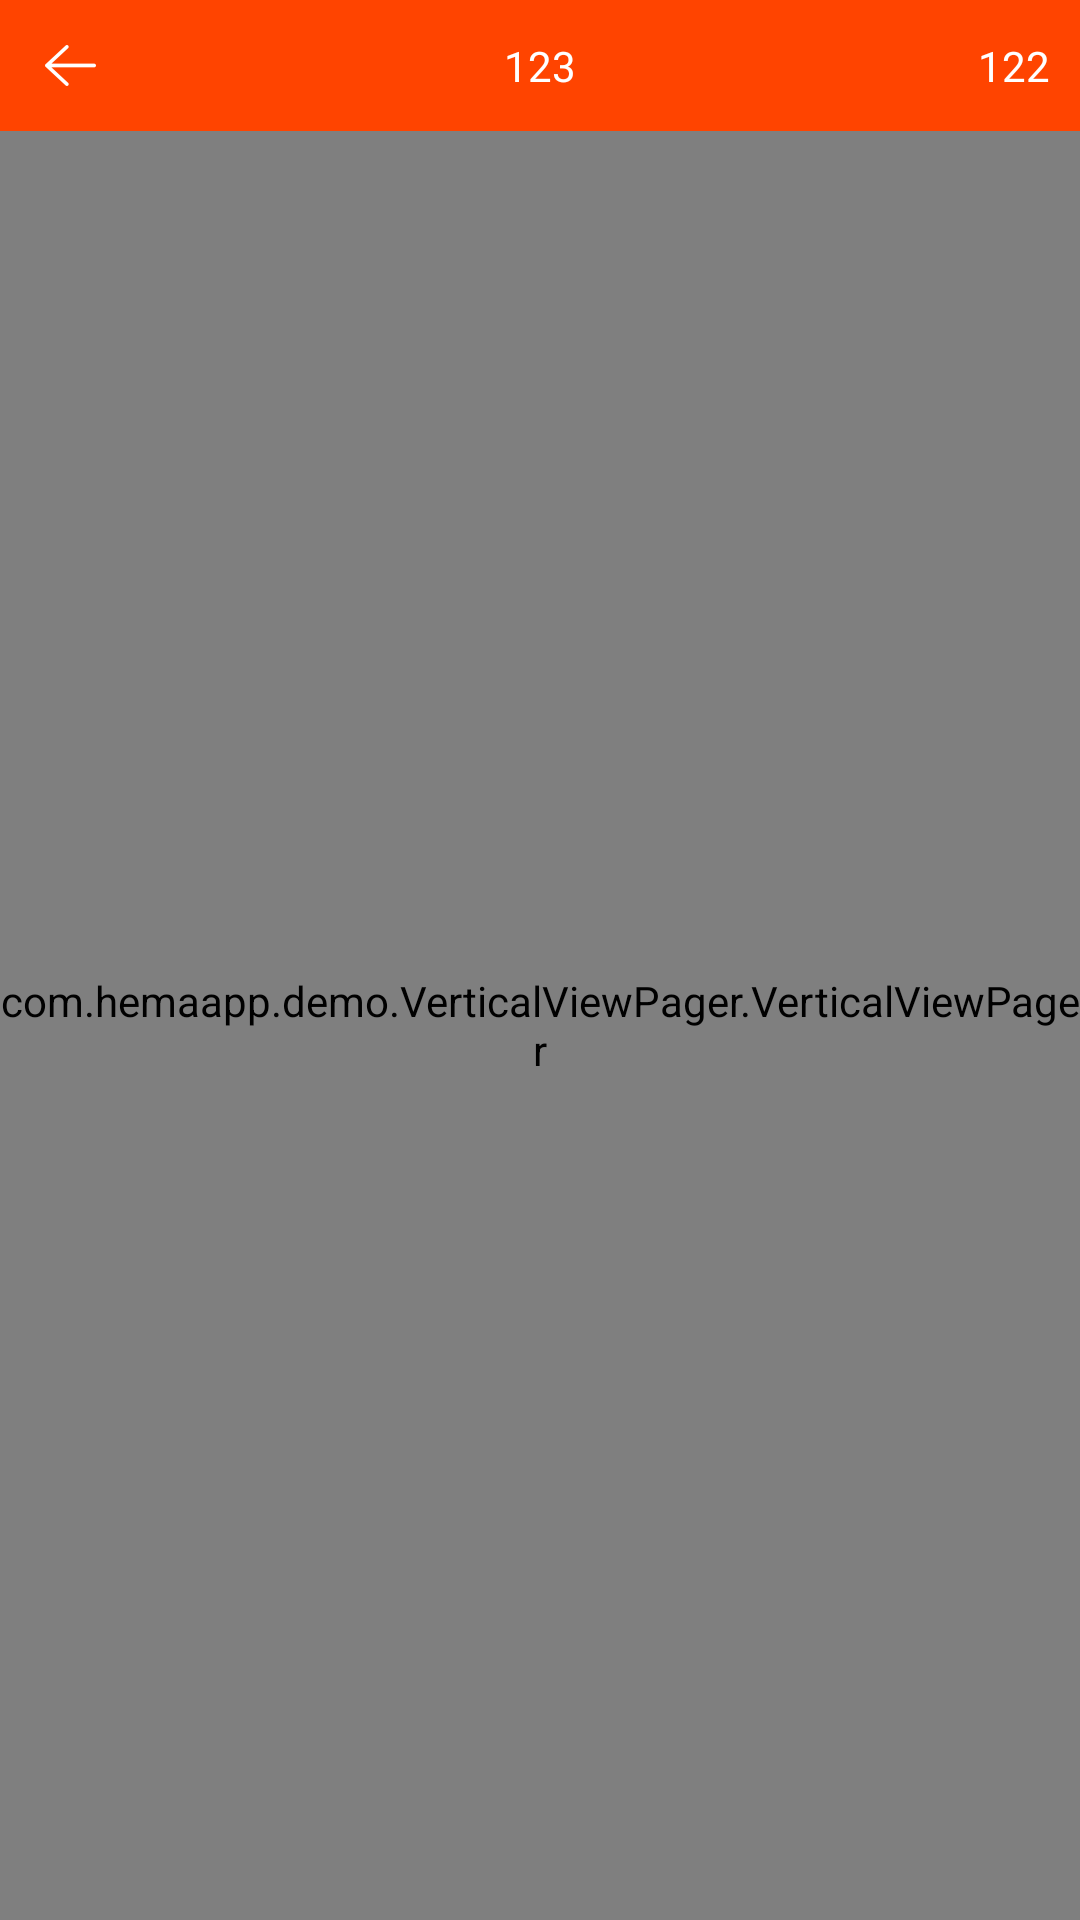

Named icons in this screenshot (1080 x 1920) and their bounding boxes, (x1, y1, x2, y2):
quit: (45, 45, 96, 86)
